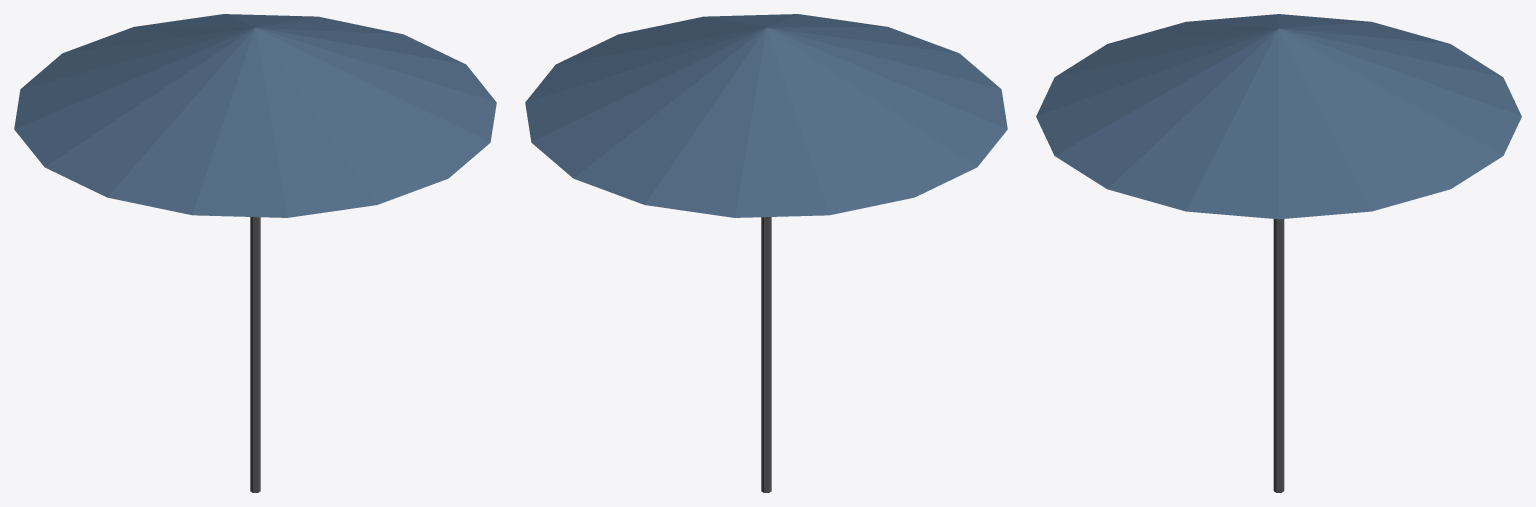
File: 2033-People-held-props-umbrella.glb
3 renders of one model, left to right at view 1: azimuth 30°, elevation 25°; view 2: azimuth 150°, elevation 25°; view 3: azimuth 270°, elevation 25°, orthographic.
Visible parts, largest first — view 1: People: held props/umbrella; view 2: People: held props/umbrella; view 3: People: held props/umbrella.
Part boxes in pixels (<box>): People: held props/umbrella: <box>14,14,496,492</box>; People: held props/umbrella: <box>525,14,1007,492</box>; People: held props/umbrella: <box>1036,14,1521,492</box>.
Bounding box in the file's own units: 1.1 × 1.15 × 1.1.
